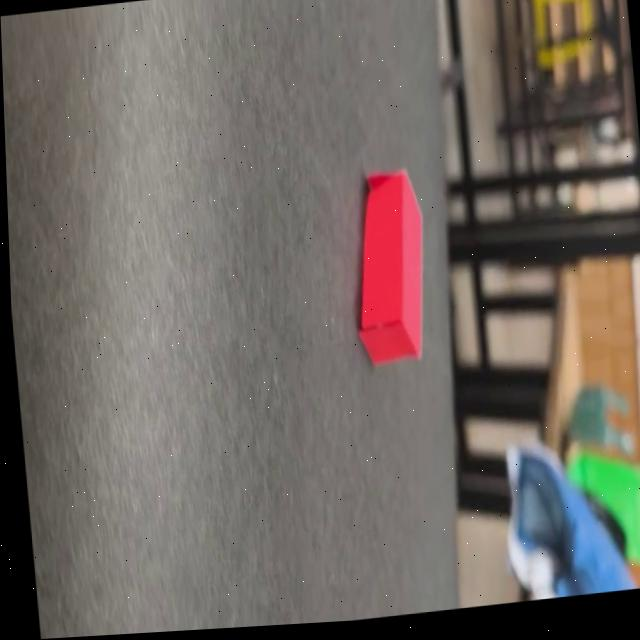red block: (343, 167, 436, 370)
